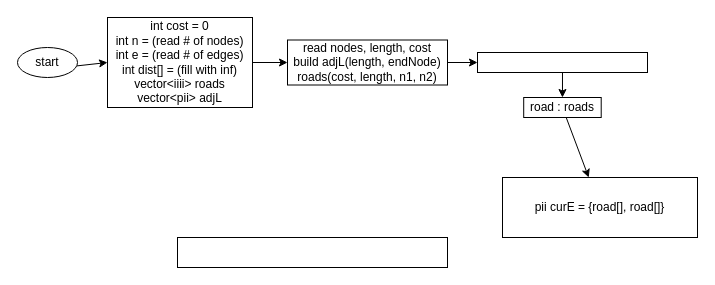
Some shapes in this 715 by 285 pixel diagram are drawn without their labels. The centre of each missing label's shape, as x and y in pixels:
priority_queue<pii, vector<pii>, greater<pii>> pq: the point at 312,252
sort roads descending by cost: the point at 562,62
